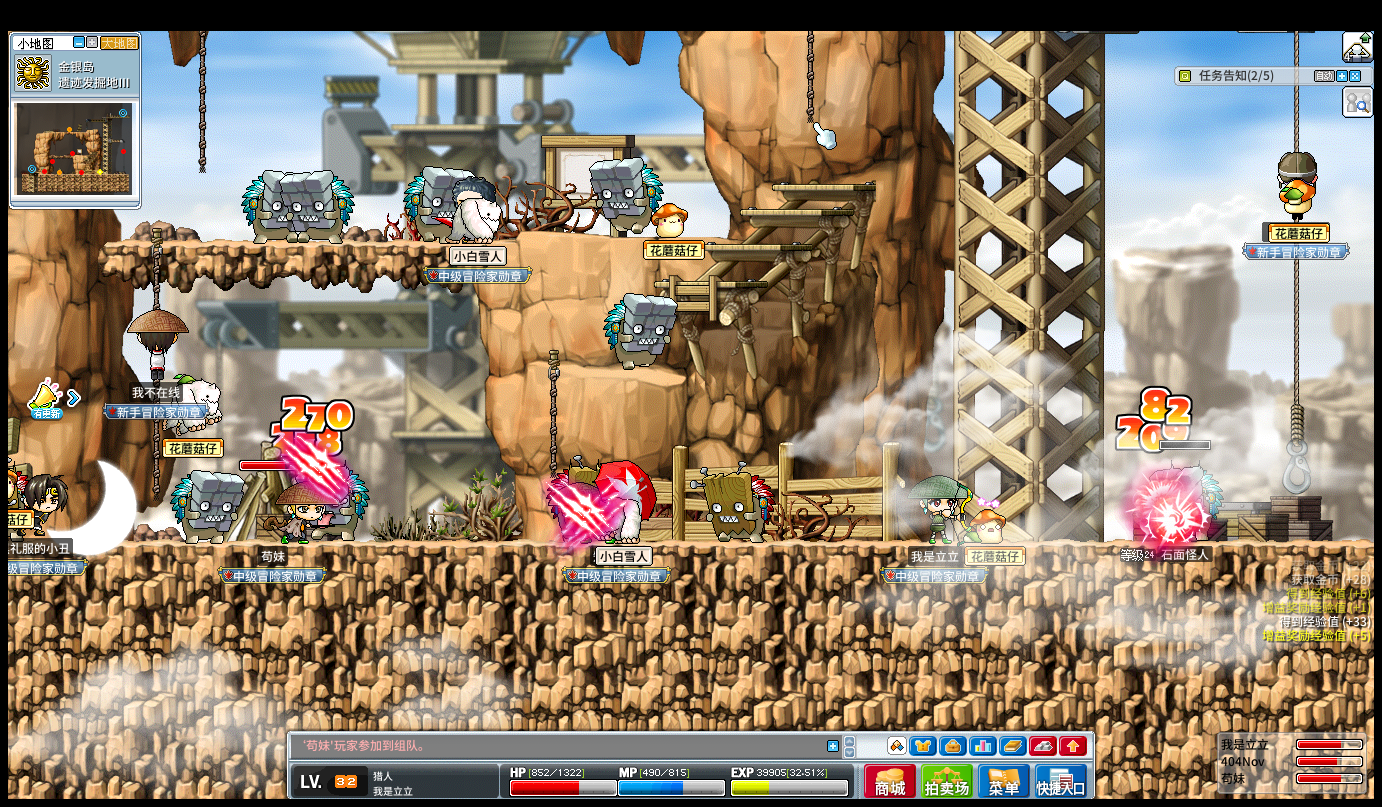floor: (126, 539, 1373, 550), (98, 239, 460, 250), (582, 366, 687, 388), (606, 233, 739, 243), (703, 243, 813, 252), (739, 209, 854, 217), (653, 281, 768, 288), (772, 184, 876, 191)
monster: (690, 461, 775, 543), (589, 157, 664, 234), (170, 470, 245, 545), (604, 294, 678, 370), (280, 171, 355, 244), (1148, 468, 1223, 541), (403, 166, 452, 244), (242, 172, 281, 244)
rope: (548, 349, 558, 478), (1293, 259, 1300, 405), (198, 31, 205, 173), (151, 227, 162, 309), (152, 420, 160, 502), (806, 30, 813, 123), (1290, 405, 1304, 441), (1293, 85, 1299, 153), (1293, 31, 1300, 67)
